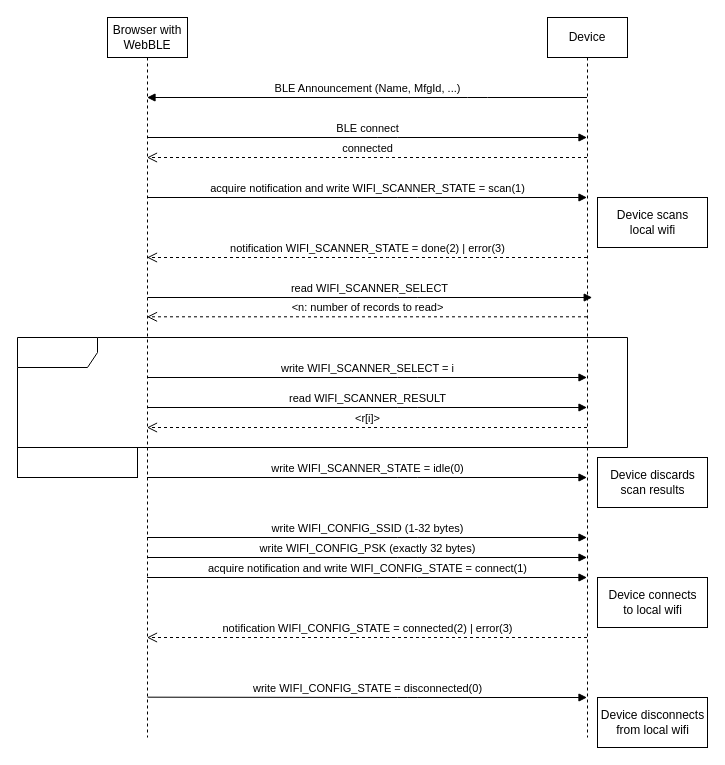
Image size: 725x765. Some labels were removed from this diagram. The shapes that lost their labels are listed below. From the top down, each one's centre as x and y in pixels, then its label:
[322,392]: for(i: 0..n-1)
[77,462]: result = r[0]....r[n-1]
